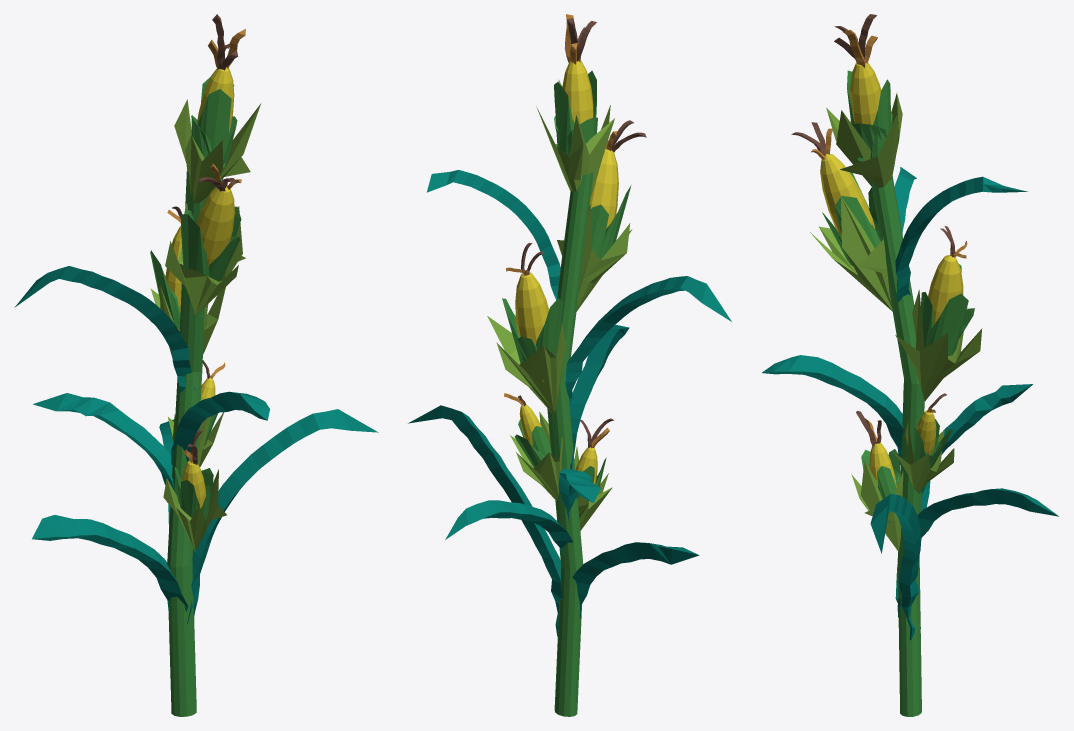
The model's file is corn_3.gltf.
The picture shows the model from 3 angles, left to right: view 1: azimuth 30°, elevation 25°; view 2: azimuth 150°, elevation 25°; view 3: azimuth 270°, elevation 25°; orthographic projection. The views are drawn at different scales.
Visible parts, largest first — view 1: node_MeshObject-1993106432-PolyPaper21; view 2: node_MeshObject-1993106432-PolyPaper21; view 3: node_MeshObject-1993106432-PolyPaper21.
Part boxes in pixels (bbox=[...]): node_MeshObject-1993106432-PolyPaper21: bbox=[14, 14, 378, 716]; node_MeshObject-1993106432-PolyPaper21: bbox=[408, 14, 731, 716]; node_MeshObject-1993106432-PolyPaper21: bbox=[762, 14, 1058, 716].
Size of the model in its own units: 1.47 by 2.83 by 1.08.
